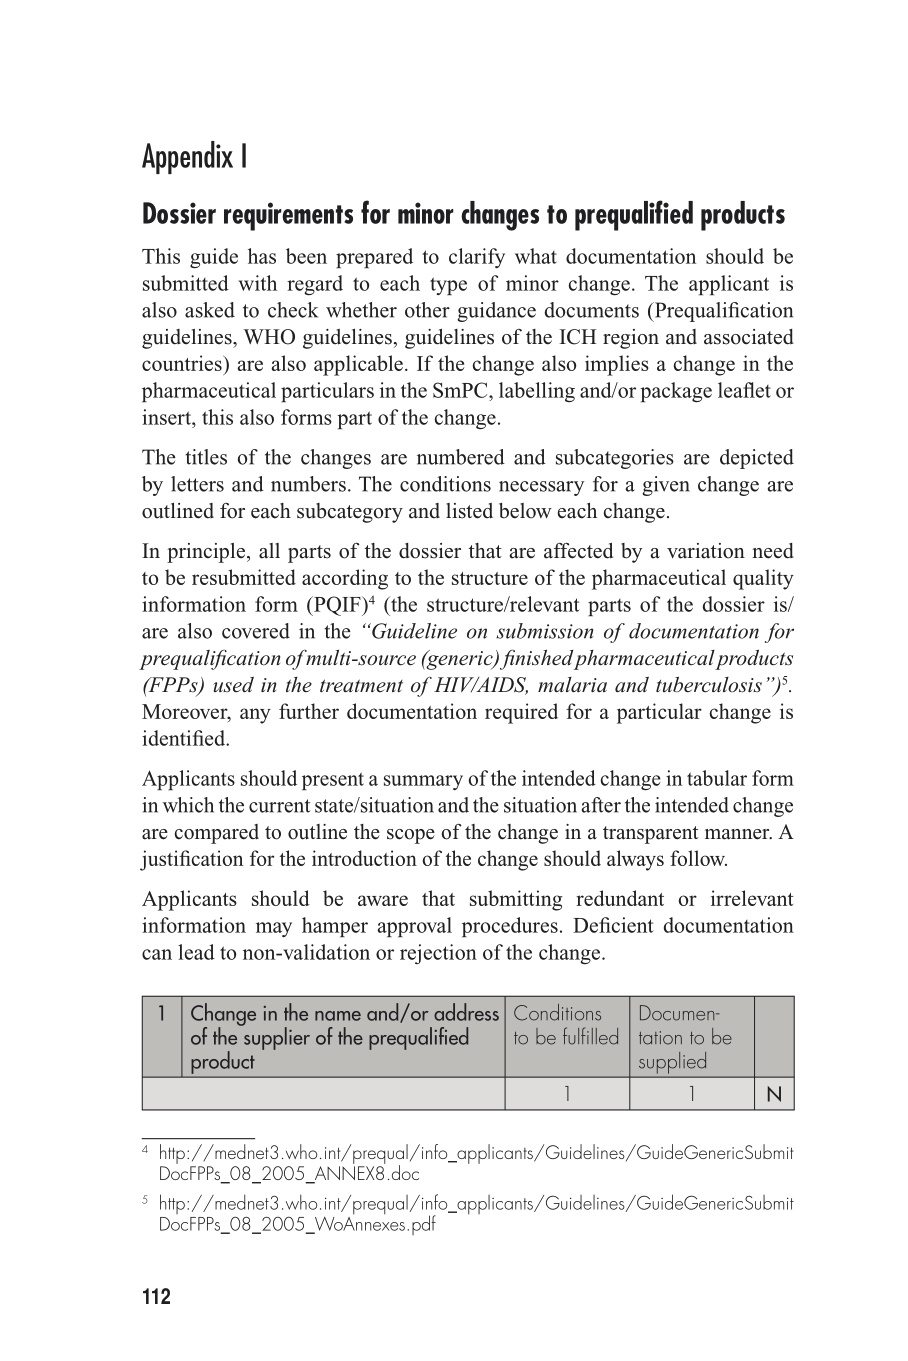merged_cells: (141, 995, 796, 1111)
